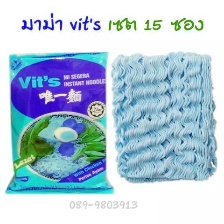snack: (0, 44, 119, 198)
